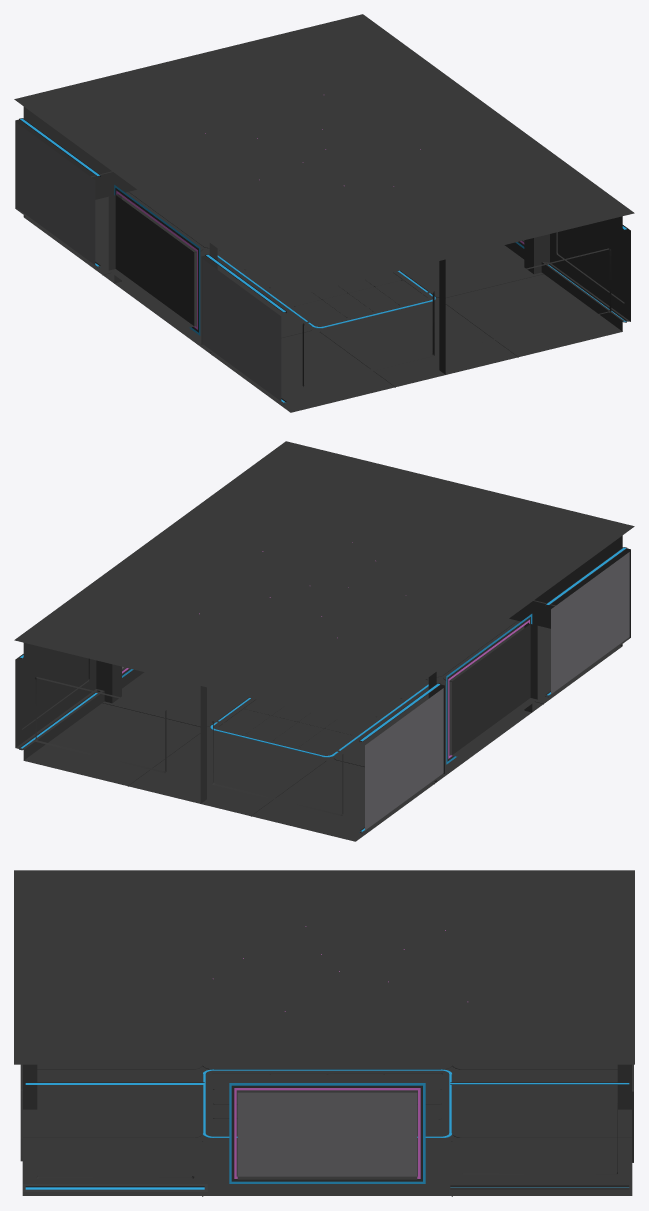
File: Gimnasioo.fbx
The picture shows the model from 3 angles, top to bottom: view 1: azimuth 30°, elevation 25°; view 2: azimuth 150°, elevation 25°; view 3: azimuth 270°, elevation 25°; orthographic projection. The views are drawn at different scales.
Visible parts, largest first — view 1: Gym; view 2: Gym; view 3: Gym.
Part boxes in pixels (x1,y1,x2,y2): Gym: (14,14,634,412); Gym: (14,441,634,841); Gym: (14,870,634,1196).
Bounding box in the file's own units: 1189 × 390 × 1595.
